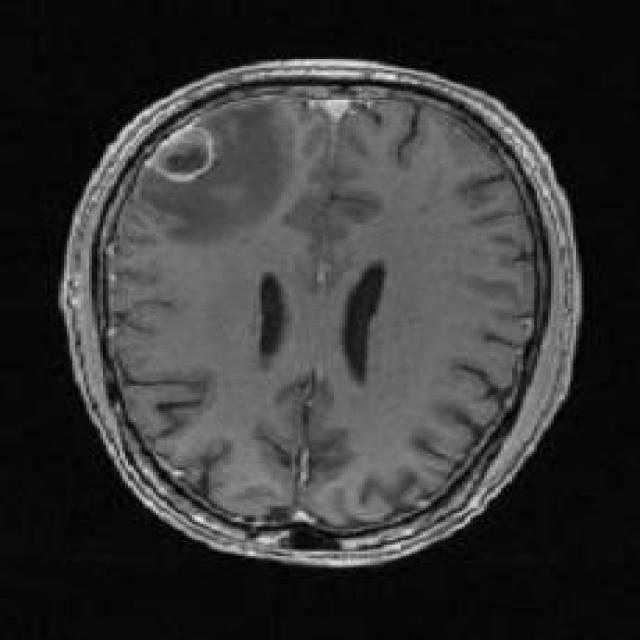notumor: (58, 59, 579, 565)
